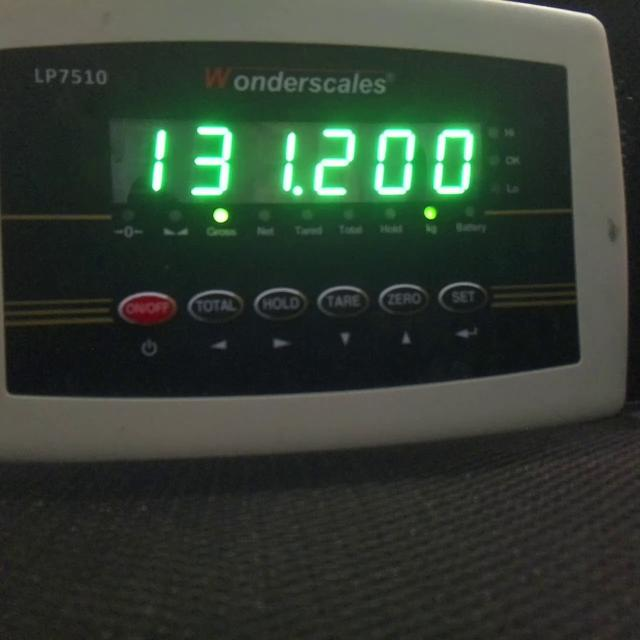.: (292, 185, 303, 196)
0: (375, 128, 417, 195), (433, 128, 473, 194)
1: (150, 129, 167, 192), (281, 130, 297, 194)
2: (312, 128, 355, 196)
3: (190, 126, 233, 196)
